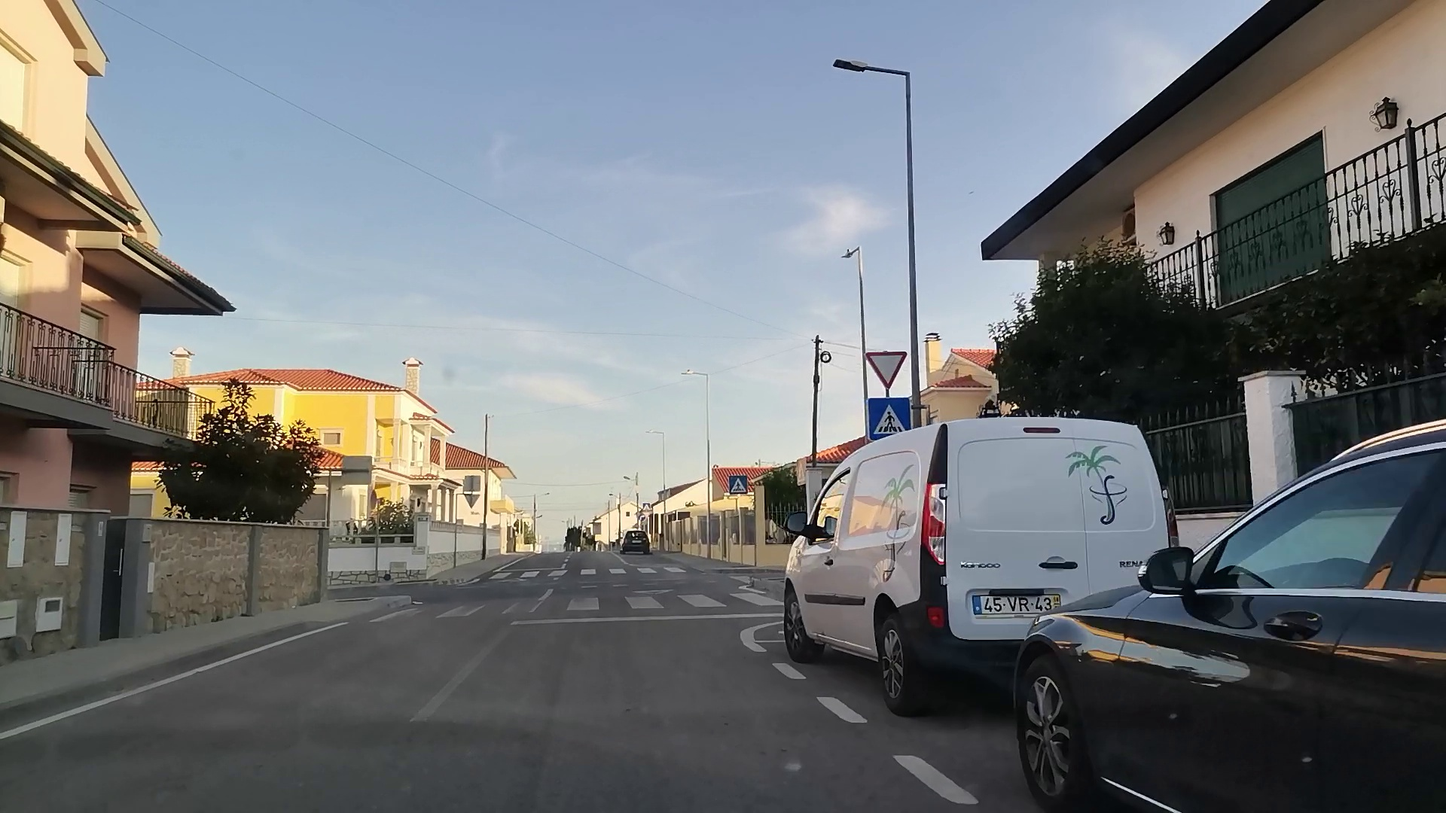Stairs: (424, 588, 779, 629), (480, 562, 705, 579)
